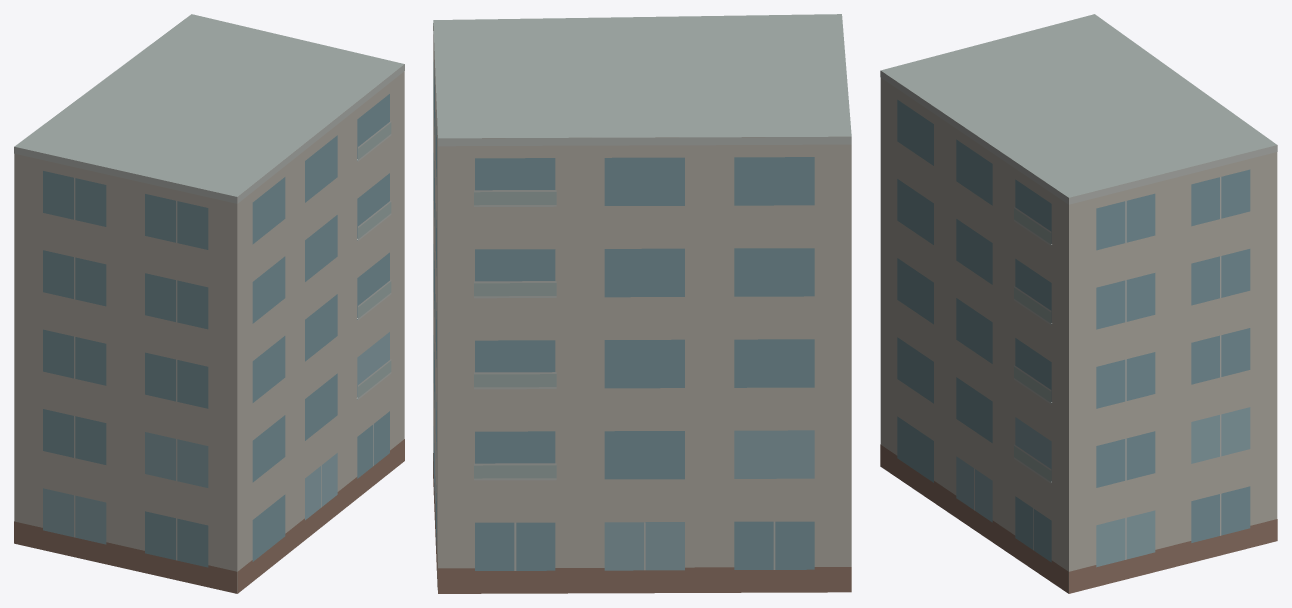
File: survey-upis-32618390.glb
3 views of the same model, side by side, from view 1: azimuth 30°, elevation 25°; view 2: azimuth 150°, elevation 25°; view 3: azimuth 270°, elevation 25° (orthographic). The views are drawn at different scales.
Parts seen in each view (by area): view 1: survey-upis-32618390.tmp; view 2: survey-upis-32618390.tmp; view 3: survey-upis-32618390.tmp.
Part boxes in pixels (bbox=[...]): survey-upis-32618390.tmp: bbox=[14, 14, 404, 593]; survey-upis-32618390.tmp: bbox=[433, 14, 851, 593]; survey-upis-32618390.tmp: bbox=[880, 14, 1277, 593].
Size of the model in its own units: 13.95 by 14 by 12.73.
